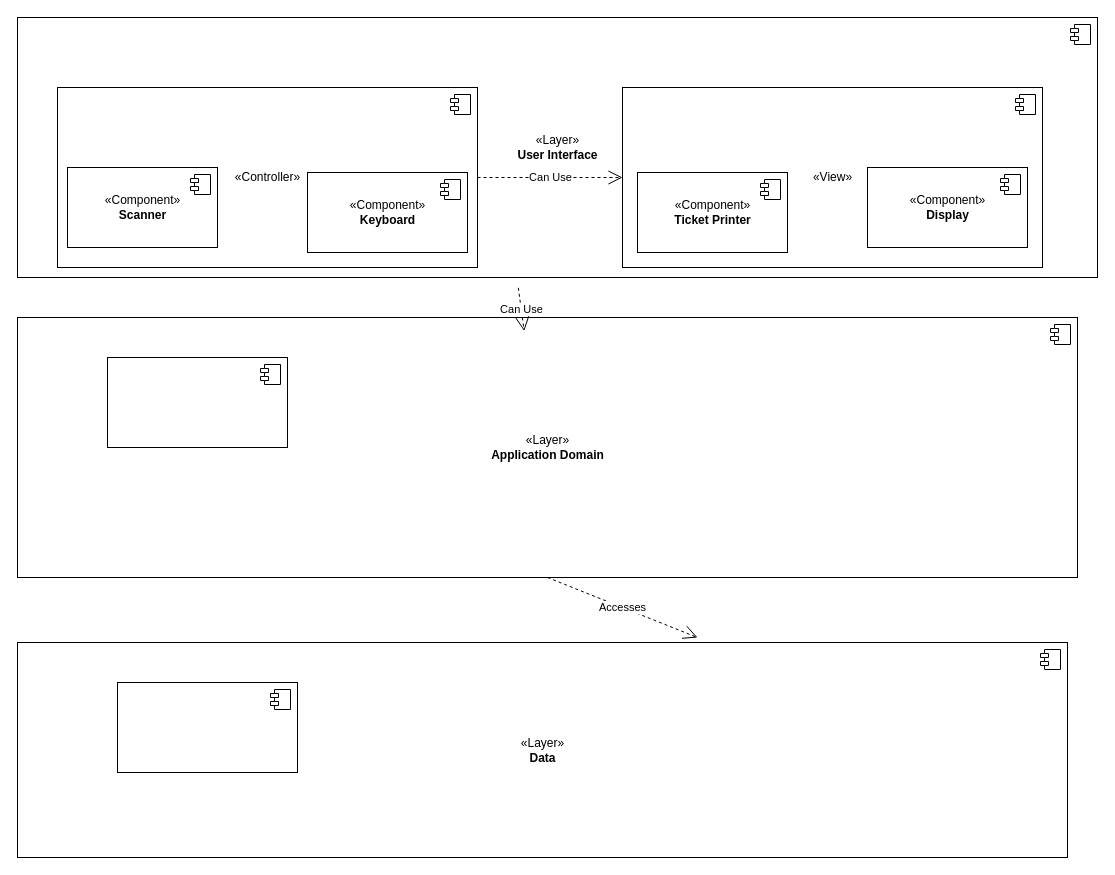
This 1115x875 diagram has some shape labels left out. The shapes that lost their labels are listed below. From the top down, each one's centre as x and y in pixels, then its label:
At (197,402): "«Model» Cash Register".
At (207,727): "«Component» Database".
